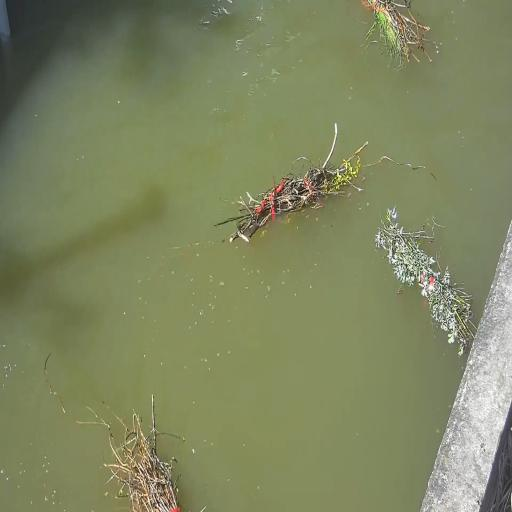twig: (215, 123, 367, 242), (374, 207, 474, 355), (75, 394, 180, 512), (361, 0, 431, 66)
